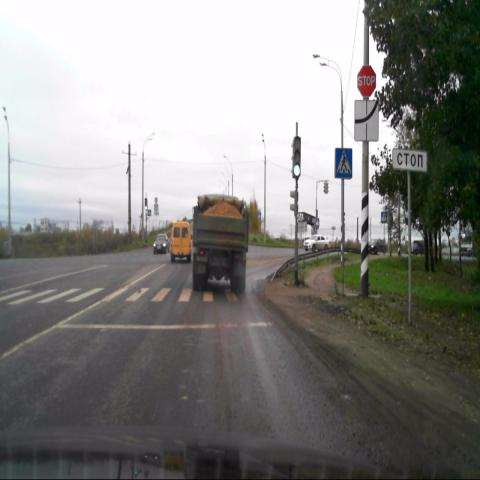2_5: (357, 65, 377, 98)
5_19_1: (335, 148, 352, 179)
6_16: (393, 148, 425, 173)
